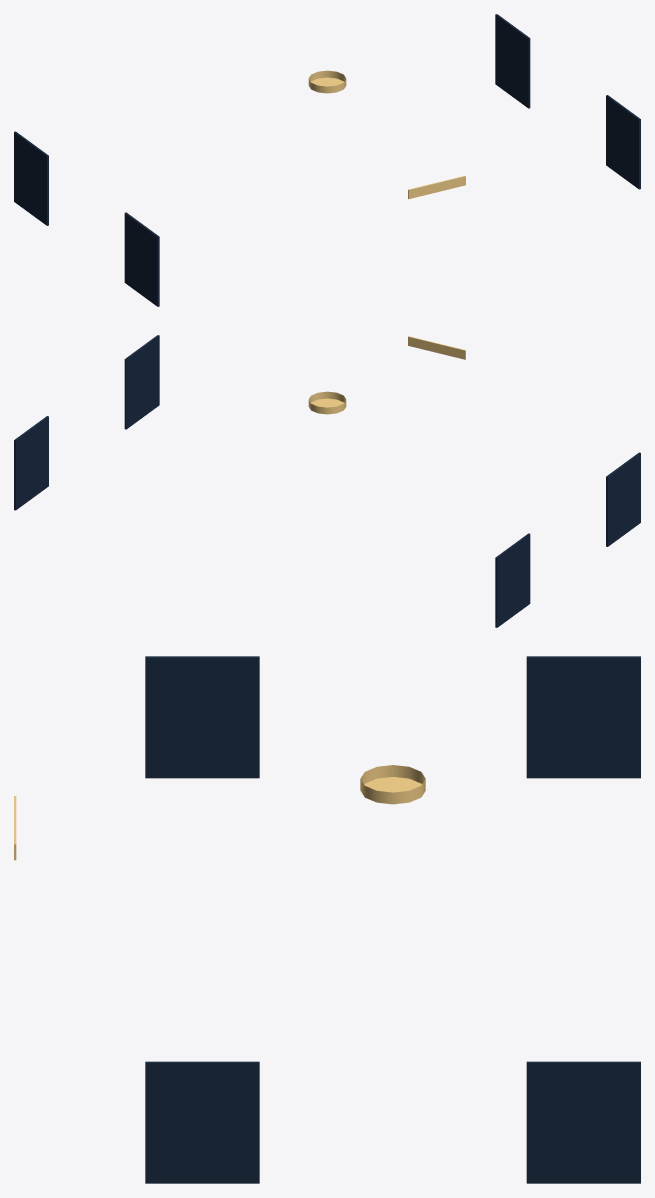
Rendered from SM_Interior_academy_crowler_office_NoCol.fbx.
The picture shows the model from 3 angles, top to bottom: view 1: azimuth 30°, elevation 25°; view 2: azimuth 150°, elevation 25°; view 3: azimuth 270°, elevation 25°; orthographic projection. The views are drawn at different scales.
Parts seen in each view (by area): view 1: SM_Interior_academy_crowler_office_NoCol; view 2: SM_Interior_academy_crowler_office_NoCol; view 3: SM_Interior_academy_crowler_office_NoCol.
Boxes of the visible parts, bbox=[...] form: SM_Interior_academy_crowler_office_NoCol: bbox=[14, 14, 640, 306]; SM_Interior_academy_crowler_office_NoCol: bbox=[14, 335, 640, 627]; SM_Interior_academy_crowler_office_NoCol: bbox=[14, 656, 640, 1183].
Size of the model in its own units: 8.84 by 2.04 by 5.76.
